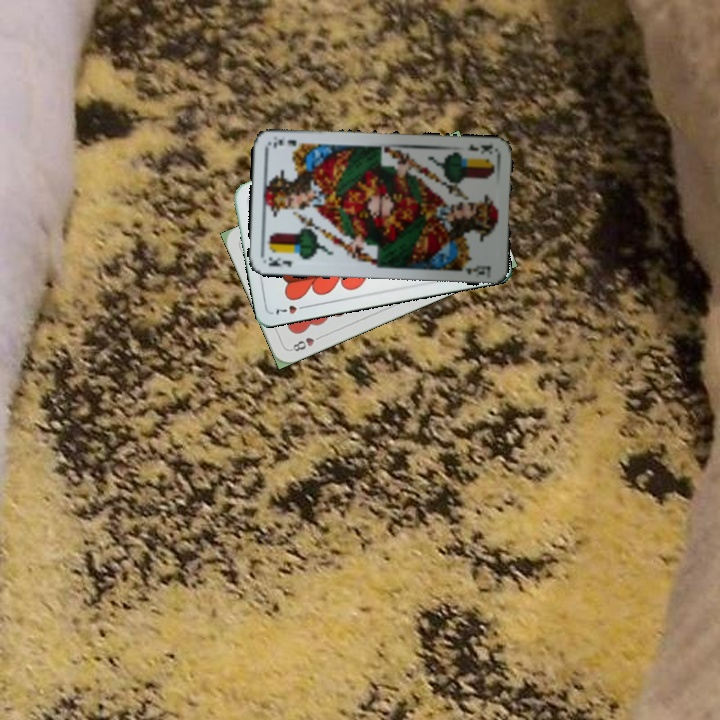EK: (463, 140, 495, 157), (264, 253, 295, 269)
H7: (272, 301, 310, 317)
H8: (286, 331, 325, 354)
